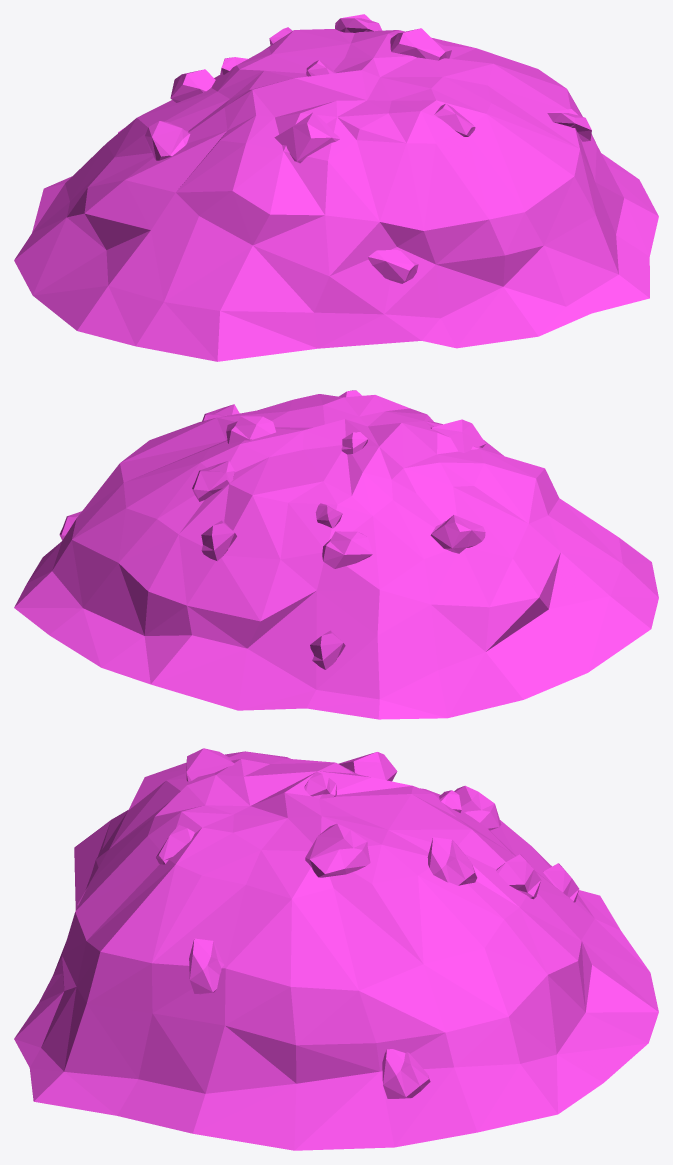
Rendered from SM_Compost_Pile_Small_Fantasy.fbx.
The picture shows the model from 3 angles, top to bottom: view 1: azimuth 30°, elevation 25°; view 2: azimuth 150°, elevation 25°; view 3: azimuth 270°, elevation 25°; orthographic projection. The views are drawn at different scales.
Visible parts, largest first — view 1: SM_Compost_Pile_Small_Fantasy; view 2: SM_Compost_Pile_Small_Fantasy; view 3: SM_Compost_Pile_Small_Fantasy.
Boxes of the visible parts, <box> form: SM_Compost_Pile_Small_Fantasy: <box>14,14,658,361</box>; SM_Compost_Pile_Small_Fantasy: <box>14,390,658,719</box>; SM_Compost_Pile_Small_Fantasy: <box>14,748,658,1150</box>.
Size of the model in its own units: 1.91 by 0.6144 by 1.61.
